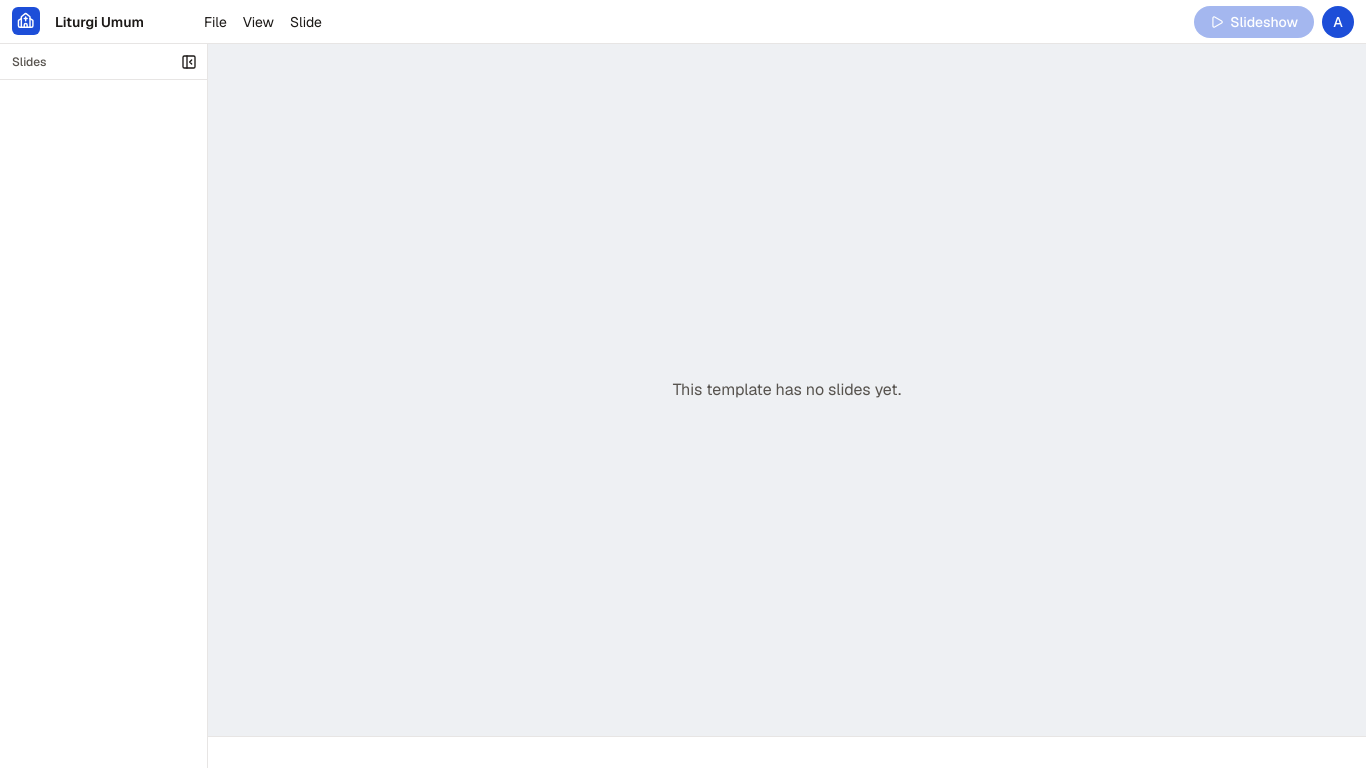
Test: an empty template says so and cannot be presented
The width and height of the screenshot is (1366, 768).
Check: the text "This template has no slides yet." is shown, box [673,379,901,400]
Check: the button "Slideshow" is disabled, box [1194,6,1314,38]
# The panel can still be closed and brought back.
Click the button named "Hide the slide panel" at (189, 62), box [175,48,203,76]
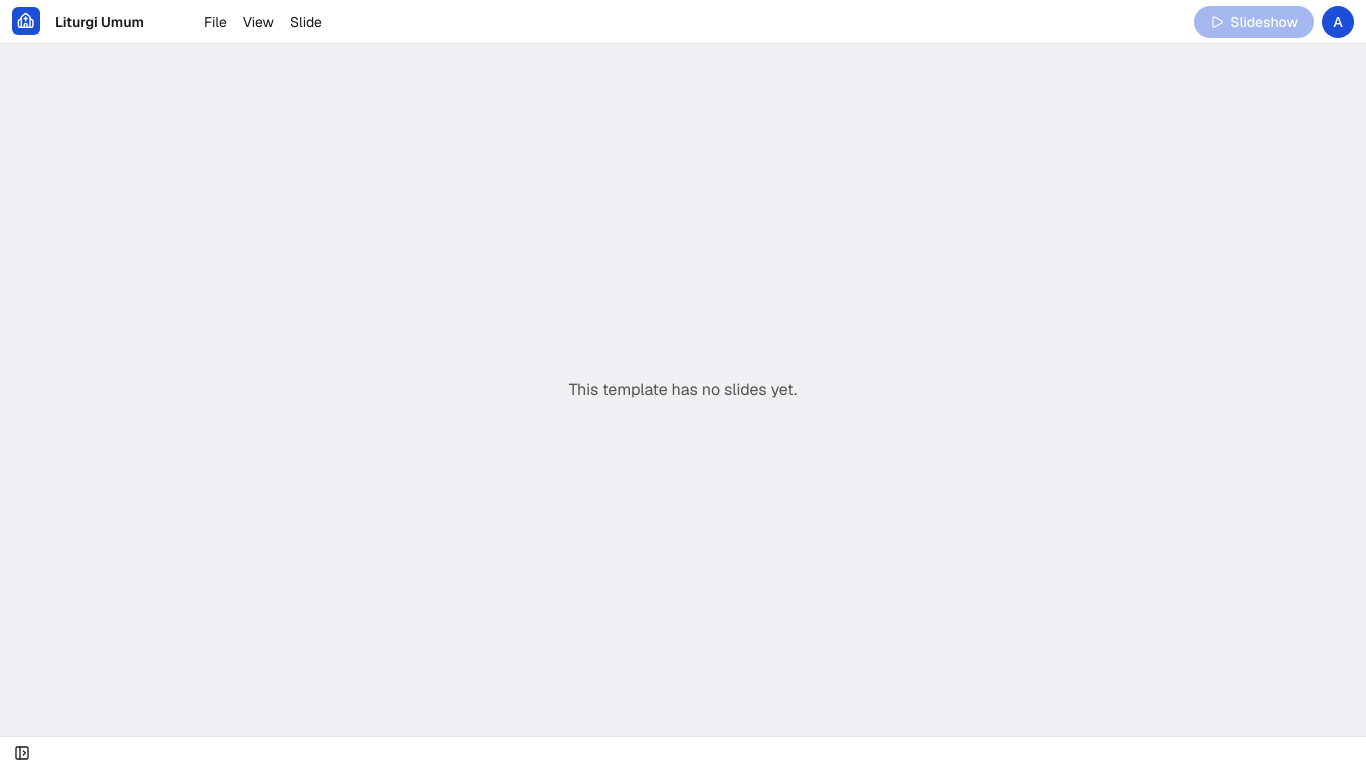
Check: the button named "Show the slide panel" is shown, box [8,738,36,766]
